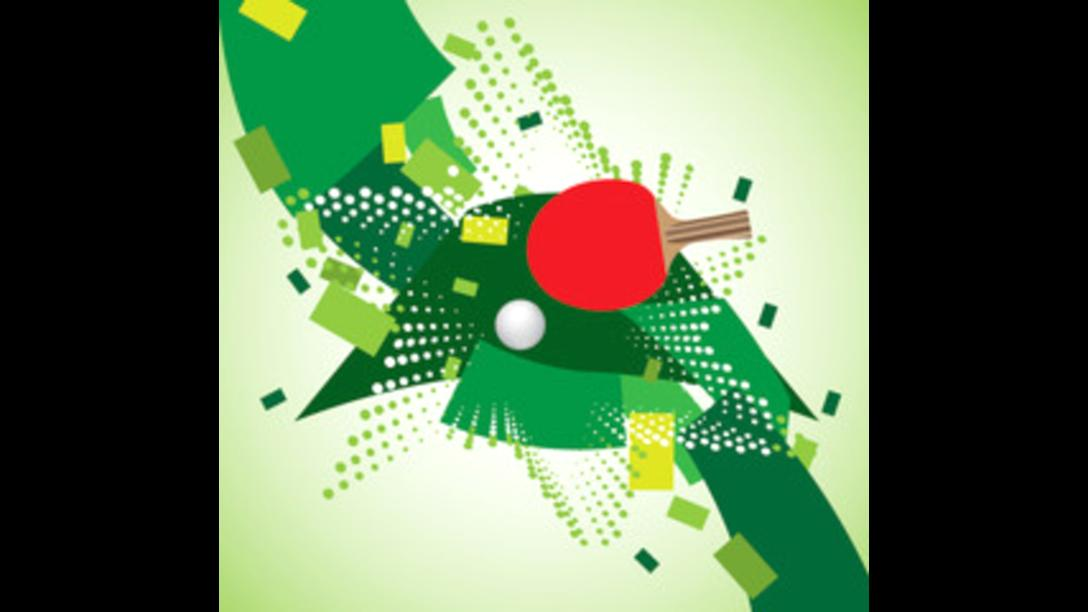Table-Tennis-Ball: (496, 301, 546, 349)
